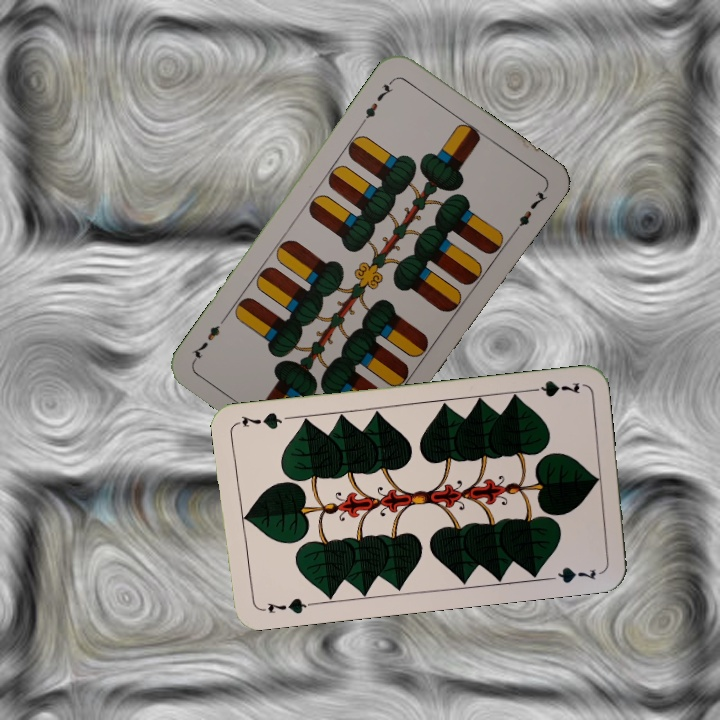E7: (357, 75, 397, 127)
G7: (523, 376, 582, 400), (255, 594, 315, 617)
